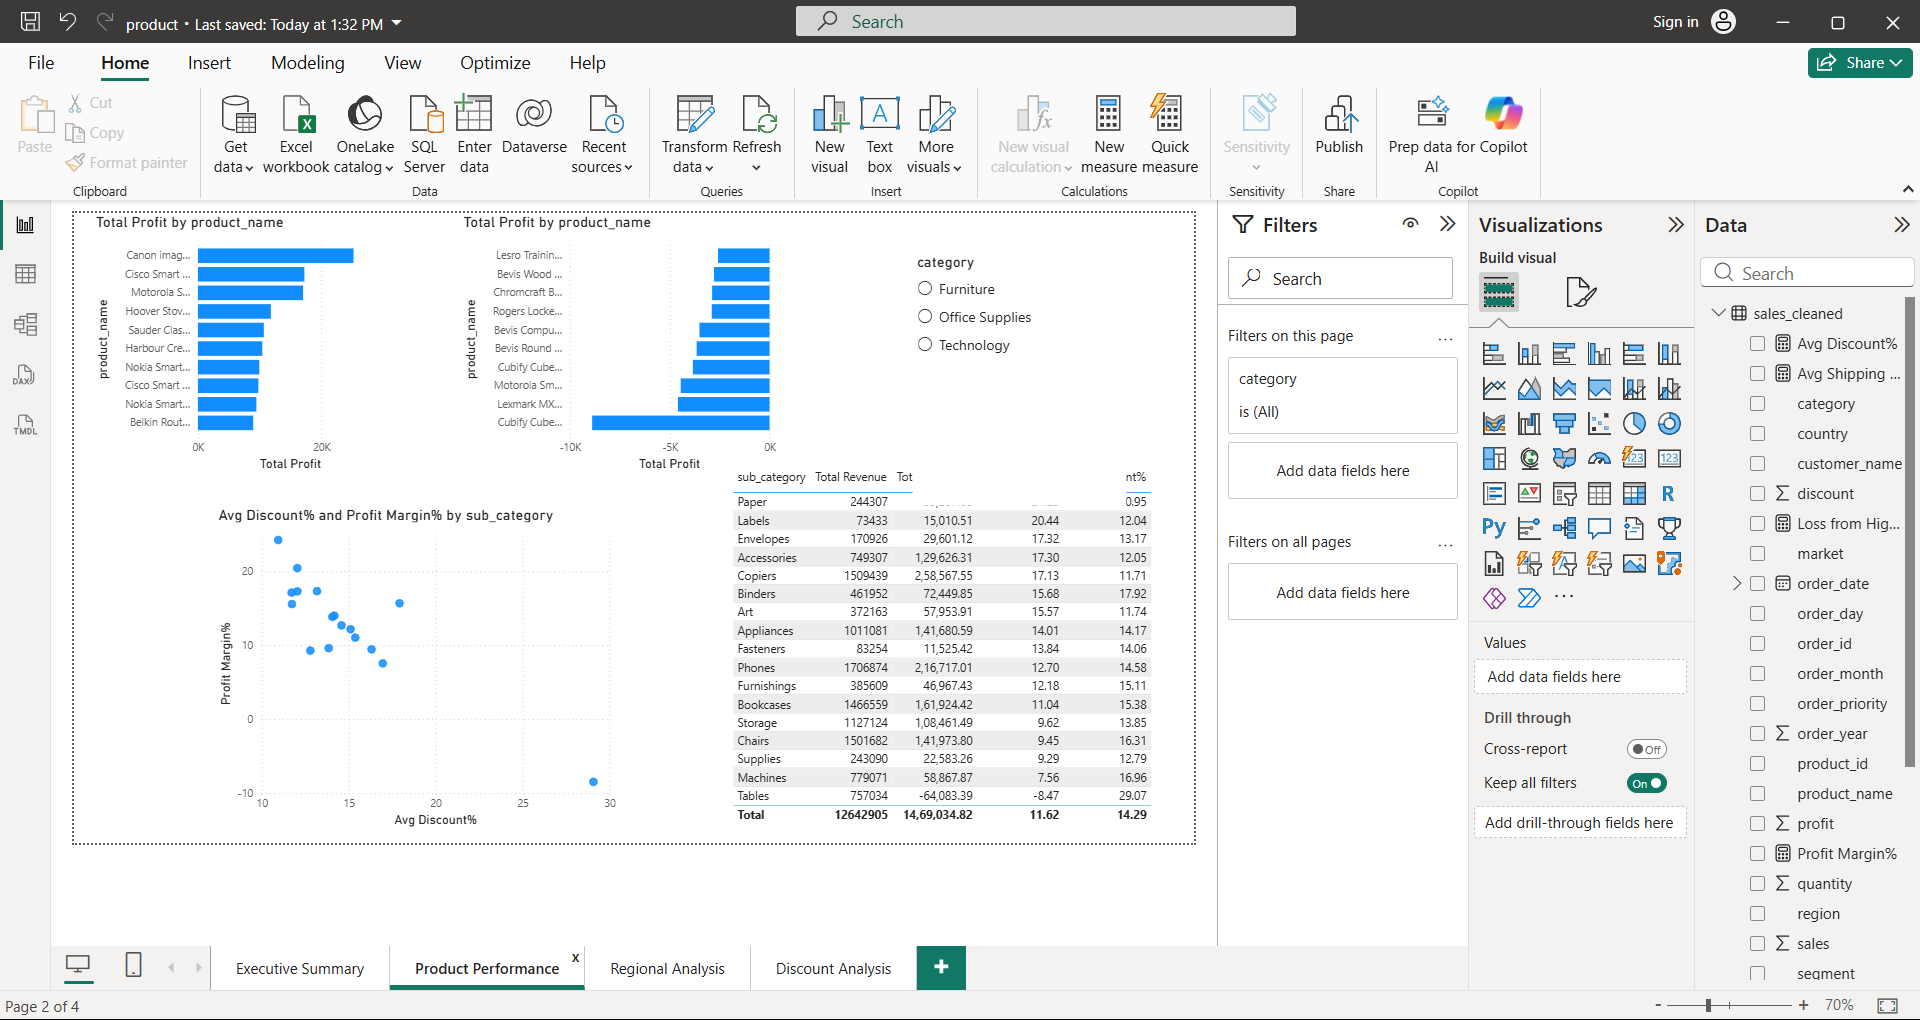

Layout of this report page (visuals, bound fields, positions):
{"tool":"powerbi","page":{"name":"Product Performance","canvas":[1280,720],"ordinal":1},"visuals":[{"type":"clusteredBarChart","fields":{"Category":["sales_cleaned.product_name"],"Y":["sales_cleaned.Total Profit"]},"box":[20,0,348.6,300],"z":0},{"type":"clusteredBarChart","fields":{"Category":["sales_cleaned.product_name"],"Y":["sales_cleaned.Total Profit"]},"box":[440,0,367.1,300],"z":1},{"type":"tableEx","fields":{"Values":["sales_cleaned.sub_category","sales_cleaned.Total Revenue","sales_cleaned.Total Profit","sales_cleaned.Profit Margin%","sales_cleaned.Avg Discount%"]},"box":[747.1,285.7,502.9,434.3],"z":2},{"type":"scatterChart","fields":{"X":["sales_cleaned.Avg Discount%"],"Y":["sales_cleaned.Profit Margin%"],"Category":["sales_cleaned.sub_category"]},"box":[160,334.3,464.3,372.9],"z":3},{"type":"listSlicer","fields":{"Values":["sales_cleaned.category"]},"box":[958.6,45.7,244.3,288.6],"z":4}]}

Visuals, with their boxes on the page's 1280x720 design canvas (x1, y1, x2, y2). These are canvas units, not pixel positions in the 1920x1020 screenshot, which may show the page scaled, cropped or inside an application window:
clusteredBarChart - sales_cleaned.product_name x sales_cleaned.Total Profit: (x1=20, y1=0, x2=369, y2=300)
clusteredBarChart - sales_cleaned.product_name x sales_cleaned.Total Profit: (x1=440, y1=0, x2=807, y2=300)
tableEx - sales_cleaned.sub_category x sales_cleaned.Total Revenue: (x1=747, y1=286, x2=1250, y2=720)
scatterChart - sales_cleaned.Avg Discount% x sales_cleaned.Profit Margin%: (x1=160, y1=334, x2=624, y2=707)
listSlicer - sales_cleaned.category: (x1=959, y1=46, x2=1203, y2=334)
